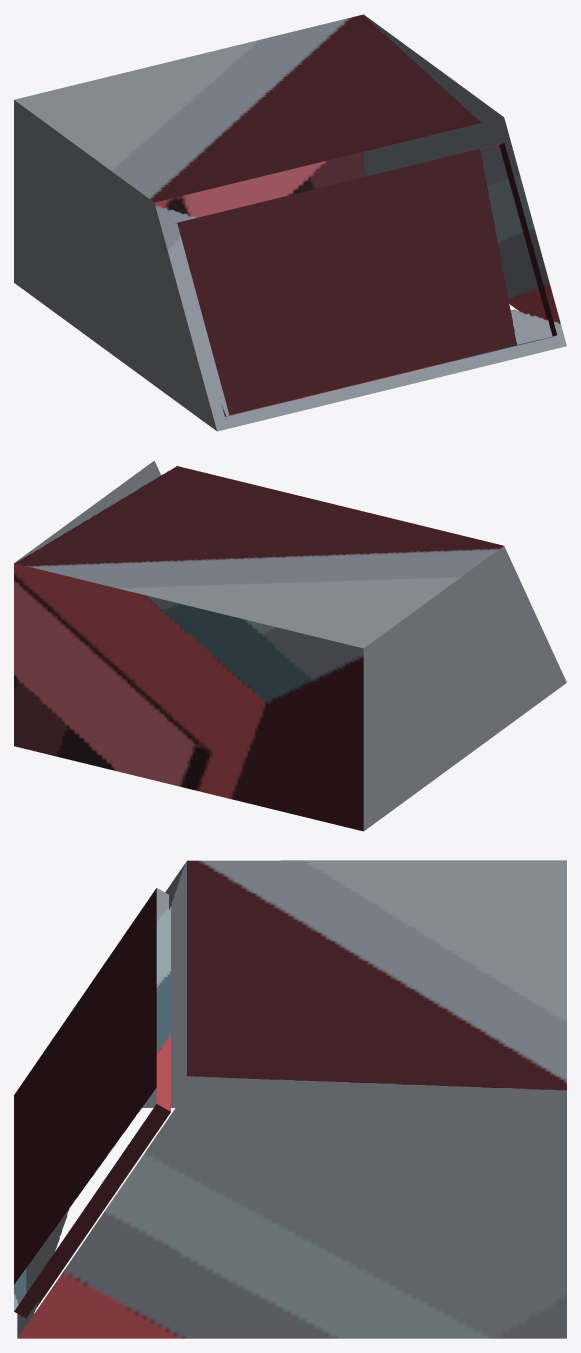
The model's file is hxd3d_carport.obj.
3 views of the same model, one above another, from view 1: azimuth 30°, elevation 25°; view 2: azimuth 150°, elevation 25°; view 3: azimuth 270°, elevation 25° (orthographic). The views are drawn at different scales.
Visible parts, largest first — view 1: cylinder_selection_selection; view 2: cylinder_selection_selection; view 3: cylinder_selection_selection.
Part boxes in pixels (box(x1,y1,x2,y2)): cylinder_selection_selection: box(14, 14, 566, 431); cylinder_selection_selection: box(14, 460, 566, 831); cylinder_selection_selection: box(14, 860, 566, 1338).
Size of the model in its own units: 1 by 0.5 by 1.01.
